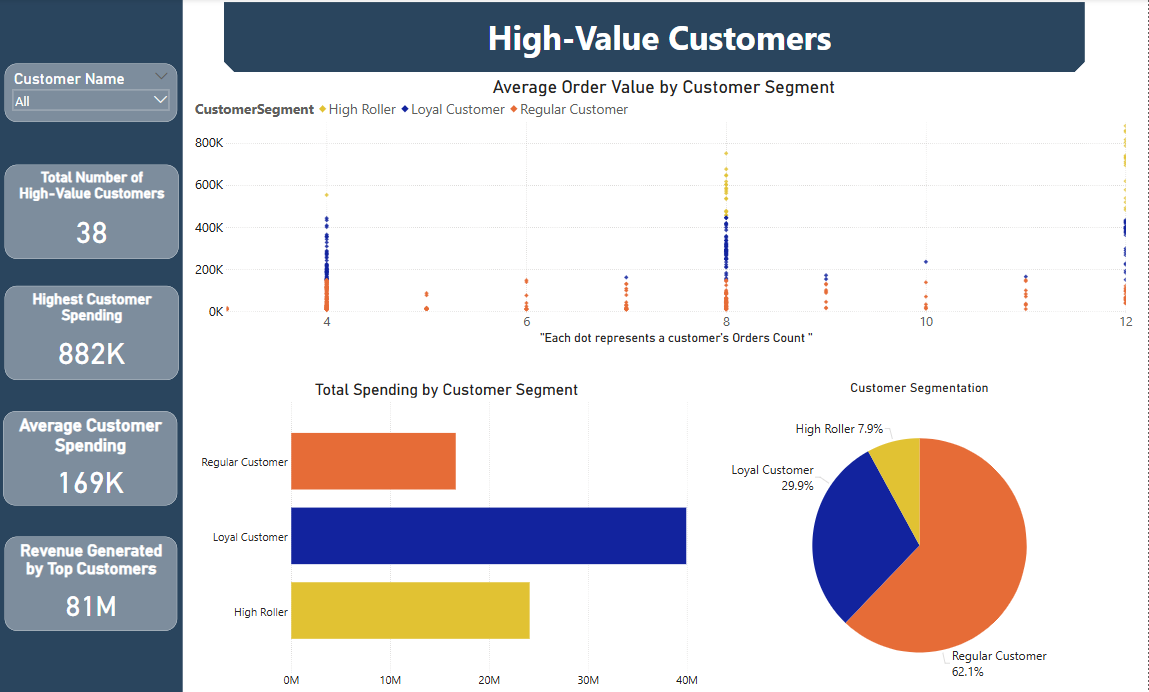

What the dashboard file says about the page in this screenshot:
{"tool":"powerbi","page":{"name":"High-Value Customers ","canvas":[2300,1700],"ordinal":2},"visuals":[{"type":"scatterChart","title":"Average Order Value by Customer Segment ","fields":{"Series":["High-Value Customers clean.CustomerSegment"],"Y":["High-Value Customers clean.TotalSpent"],"X":["High-Value Customers clean.OrdersCount"]},"box":[415.1,143.8,1856.5,657],"z":0},{"type":"clusteredBarChart","title":" Total Spending by Customer Segment","fields":{"Category":["High-Value Customers clean.CustomerSegment"],"Y":["Sum(High-Value Customers clean.TotalSpent)"]},"box":[416.7,941.1,958.5,760.5],"z":2000},{"type":"card","title":" Total Number of High-Value Customers","fields":{"Values":["CountNonNull(High-Value Customers clean.CustomerID)"]},"box":[17.4,583.4,371.6,215.3],"z":3000},{"type":"card","title":"Revenue Generated by Top Customers","fields":{"Values":["Sum(High-Value Customers clean.TotalSpent)"]},"box":[13.9,1413.4,375.1,215.3],"z":4000},{"type":"card","title":" Average Customer Spending","fields":{"Values":["Avg(High-Value Customers clean.TotalSpent)"]},"box":[13.9,1107.8,375.1,215.3],"z":5000},{"type":"textbox","box":[78.4,16.3,921.7,127.5],"z":6000},{"type":"card","title":"Highest Customer Spending","fields":{"Values":["Max(High-Value Customers clean.TotalSpent)"]},"box":[13.9,830,375.1,218.8],"z":7000},{"type":"slicer","fields":{"Values":["High-Value Customers clean.CustomerName"]},"box":[20.8,368.1,368.1,142.4],"z":8000},{"type":"pieChart","title":"Number of Customers by Segment","fields":{"Category":["High-Value Customers clean.CustomerSegment"],"Y":["CountNonNull(High-Value Customers clean.CustomerID)"]},"box":[1361.3,941.1,937.7,760.5],"z":8001}]}

Visuals, with their boxes on the page's 2300x1700 design canvas (x1, y1, x2, y2). These are canvas units, not pixel positions in the 1149x692 screenshot, which may show the page scaled, cropped or inside an application window:
"Average Order Value by Customer Segment " scatterChart: locate(415, 144, 2272, 801)
" Total Spending by Customer Segment" clusteredBarChart: locate(417, 941, 1375, 1702)
" Total Number of High-Value Customers" card: locate(17, 583, 389, 799)
"Revenue Generated by Top Customers" card: locate(14, 1413, 389, 1629)
" Average Customer Spending" card: locate(14, 1108, 389, 1323)
textbox: locate(78, 16, 1000, 144)
"Highest Customer Spending" card: locate(14, 830, 389, 1049)
slicer - High-Value Customers clean.CustomerName: locate(21, 368, 389, 510)
"Number of Customers by Segment" pieChart: locate(1361, 941, 2299, 1702)
